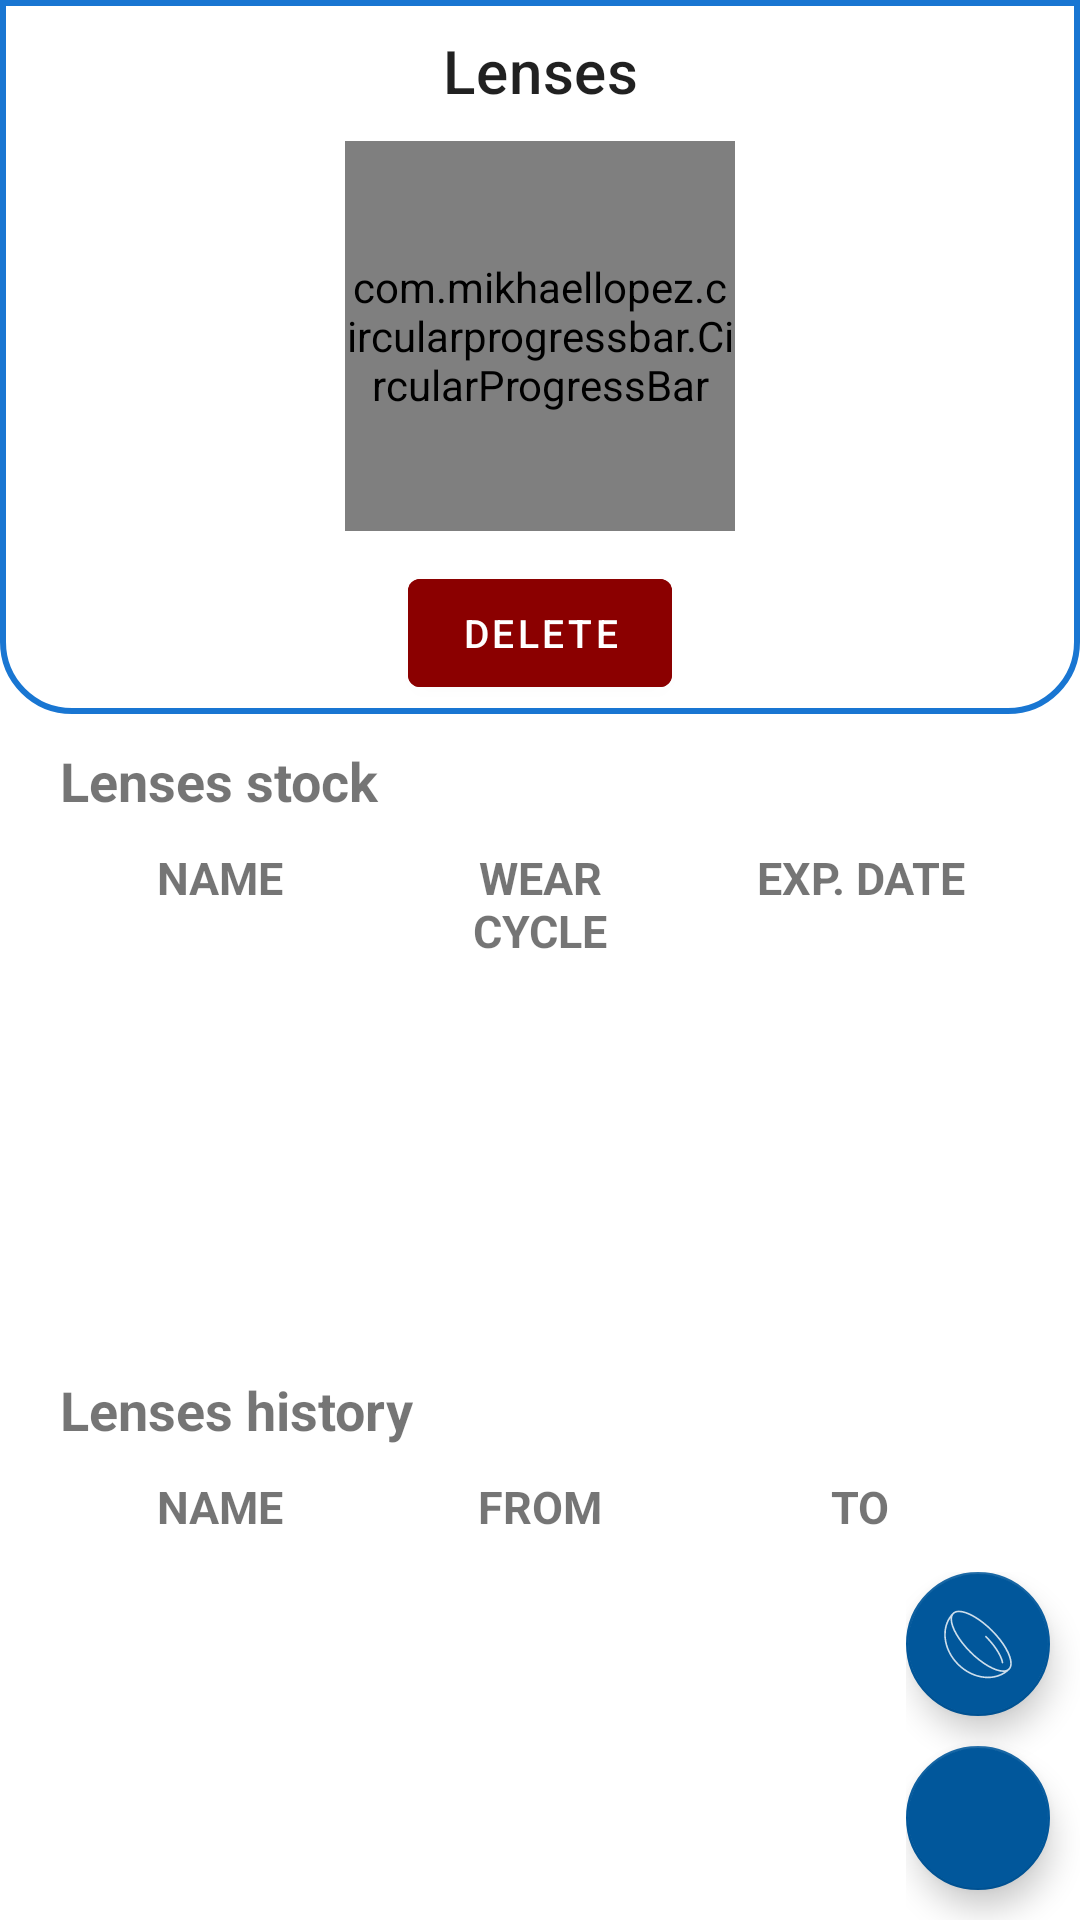

Point at icon controls on the screen. Image size 1080px x 1920px, points as (x,y).
add lenses to stock: (978,1644)
